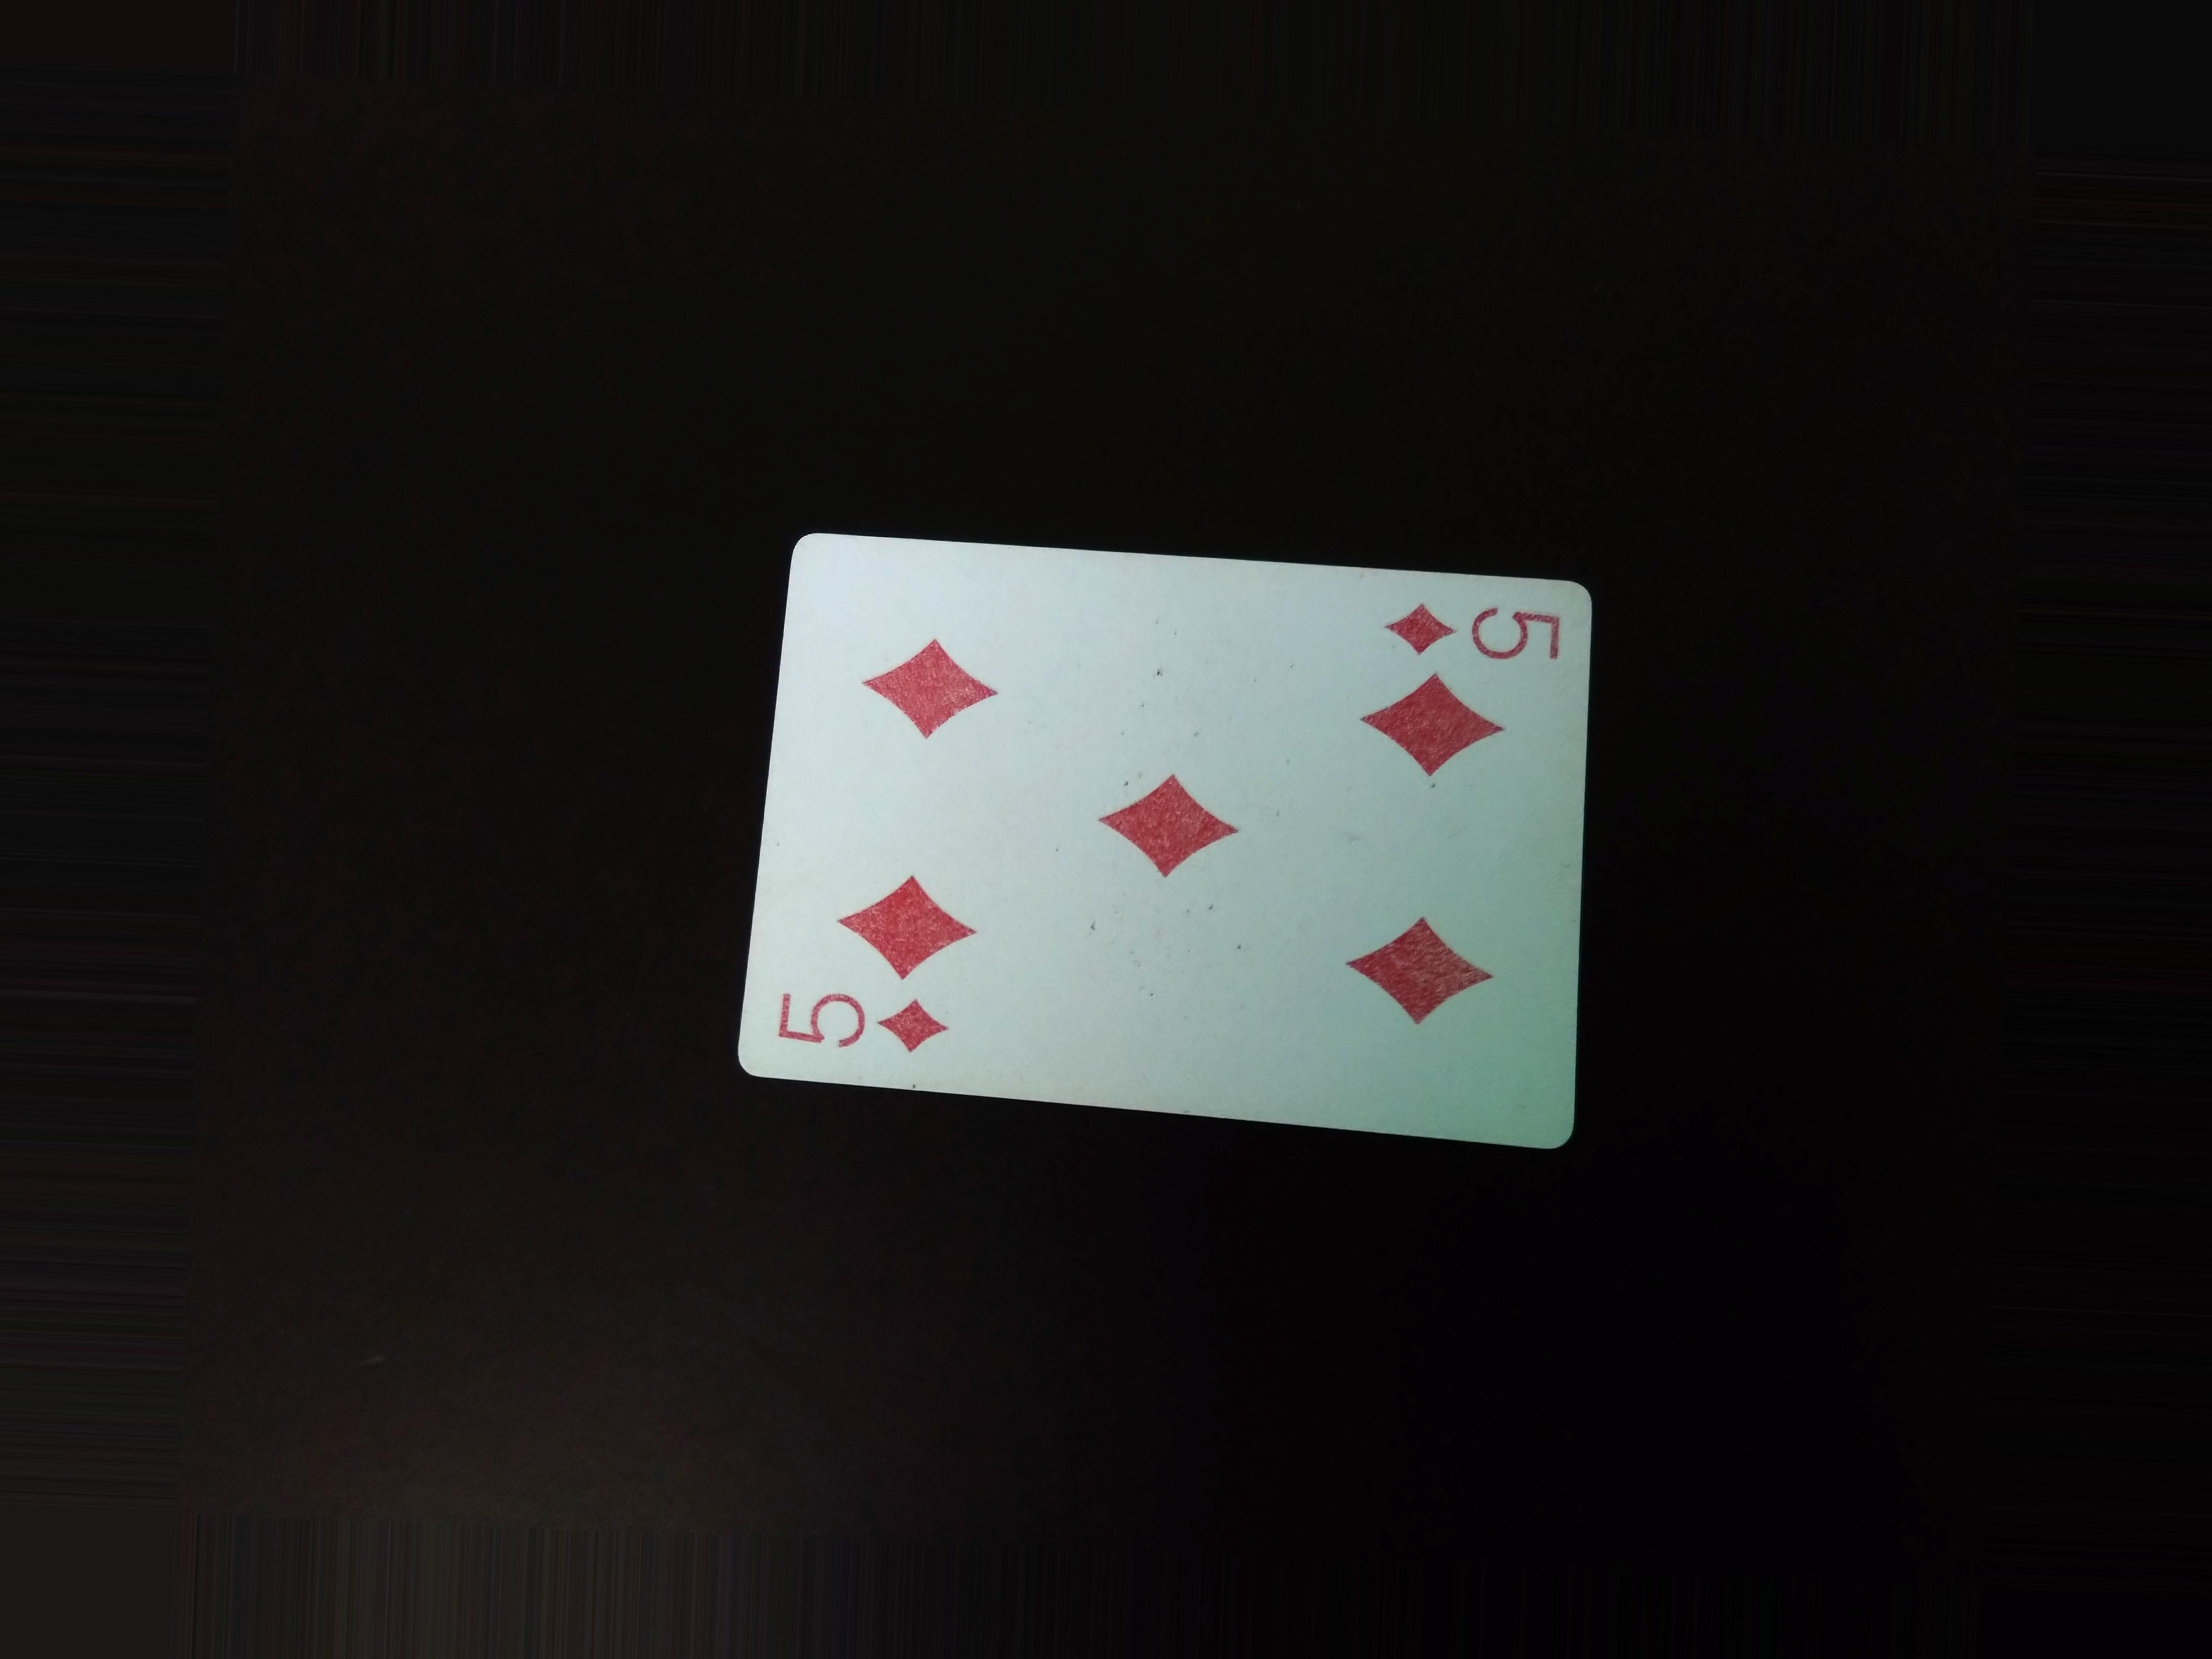5D: (756, 974, 961, 1068)
